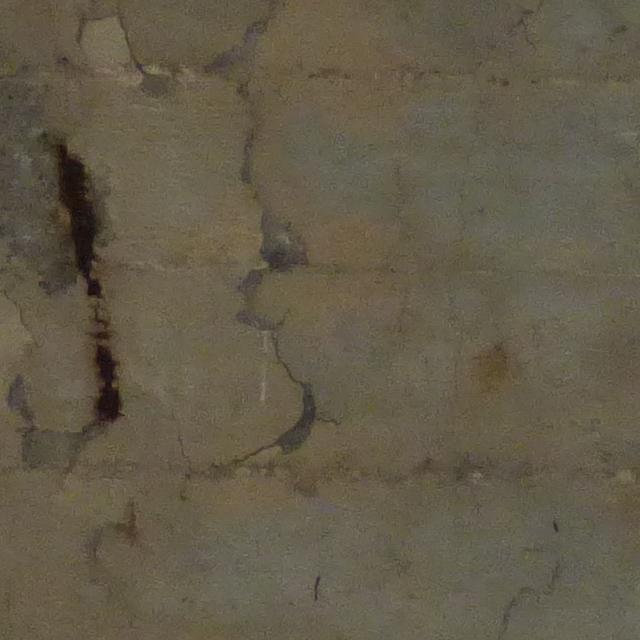Rust: (49, 143, 128, 426)
